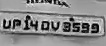1: (22, 19, 31, 32)
3: (62, 20, 72, 34)
4: (27, 20, 39, 31)
5: (72, 21, 81, 34)
9: (90, 20, 100, 36), (81, 21, 90, 33)
D: (38, 19, 51, 32)
P: (12, 16, 21, 31)
U: (1, 18, 13, 30)
V: (50, 19, 61, 33)
